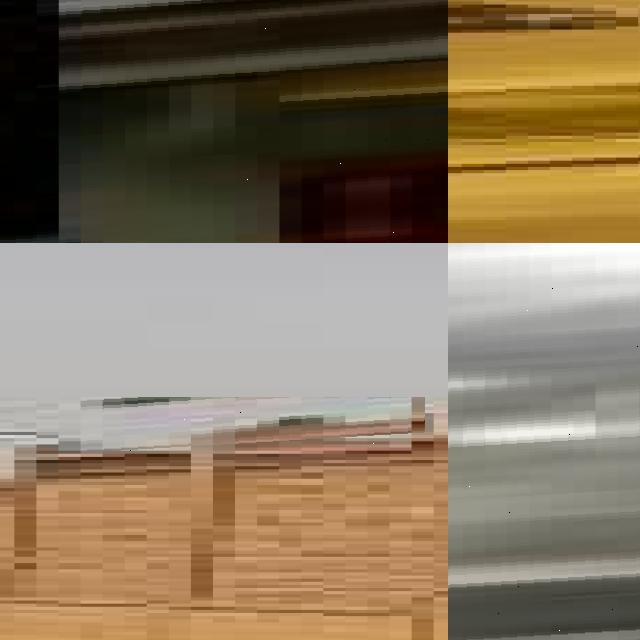street light: (0, 0, 448, 243), (448, 243, 640, 640), (78, 398, 425, 453)
